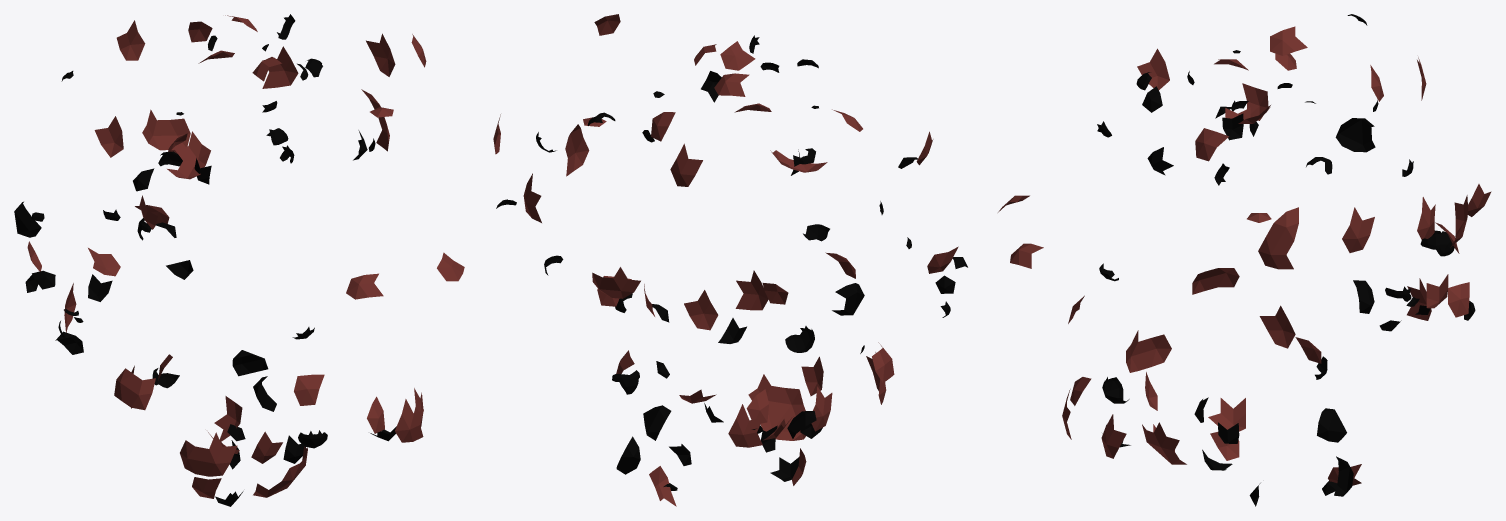
Rendered from explode.f0012.glb.
3 views of the same model, side by side, from view 1: azimuth 30°, elevation 25°; view 2: azimuth 150°, elevation 25°; view 3: azimuth 270°, elevation 25° (orthographic). The views are drawn at different scales.
Visible parts, largest first — view 1: Body.001; view 2: Body.001; view 3: Body.001.
Boxes of the visible parts, x1,y1,x2,y2 form: Body.001: (14,14,464,506); Body.001: (493,14,967,506); Body.001: (998,14,1491,506).
Size of the model in its own units: 9.61 by 10.02 by 9.75.
Materials: 1 (1 with a texture image).
